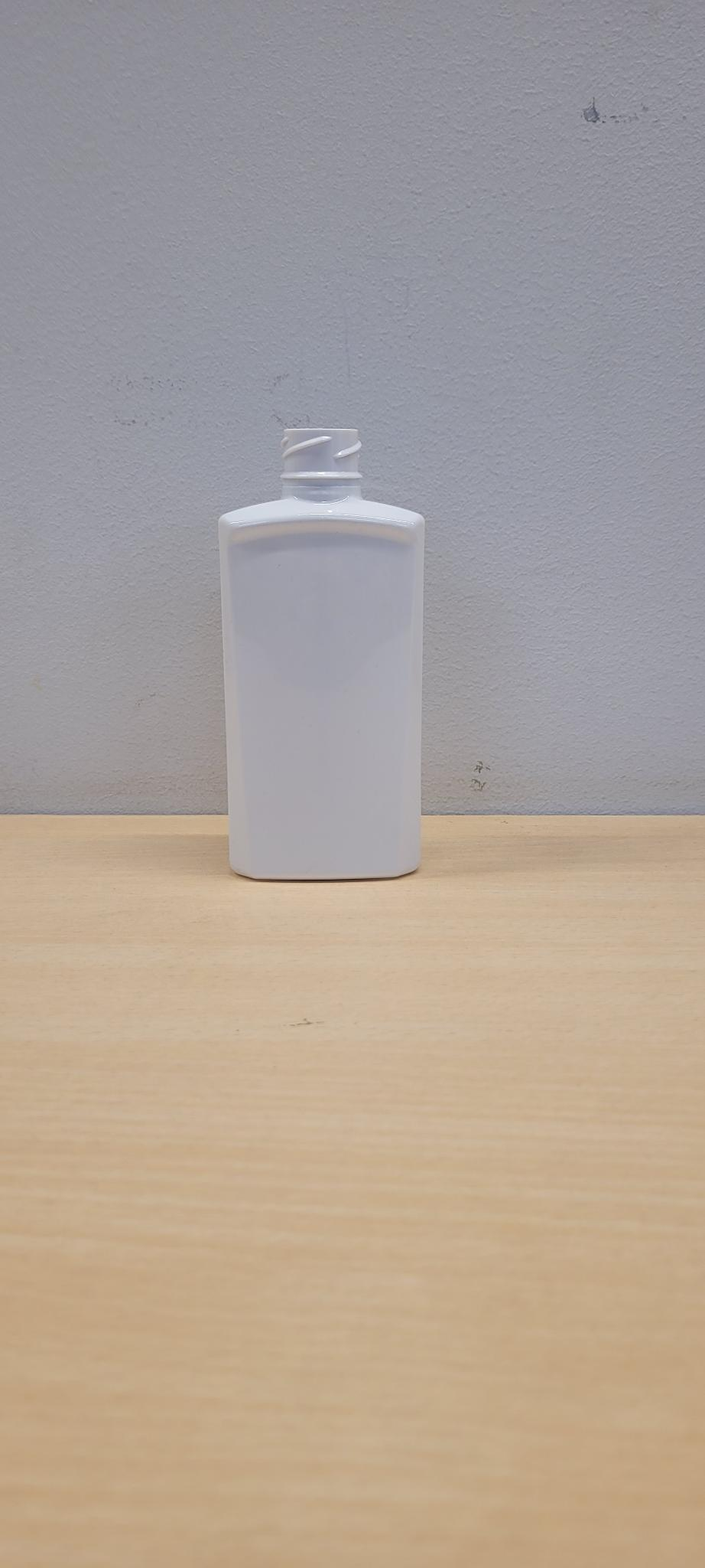bottle: (219, 426, 424, 881)
